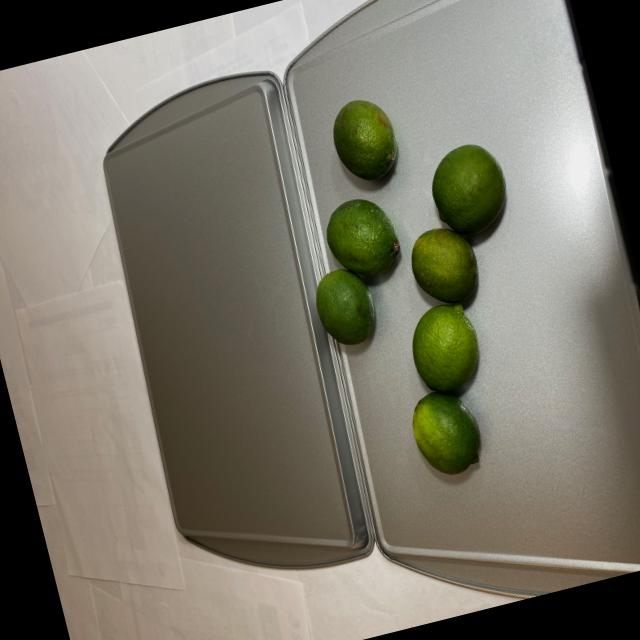lemon: (270, 71, 574, 504)
